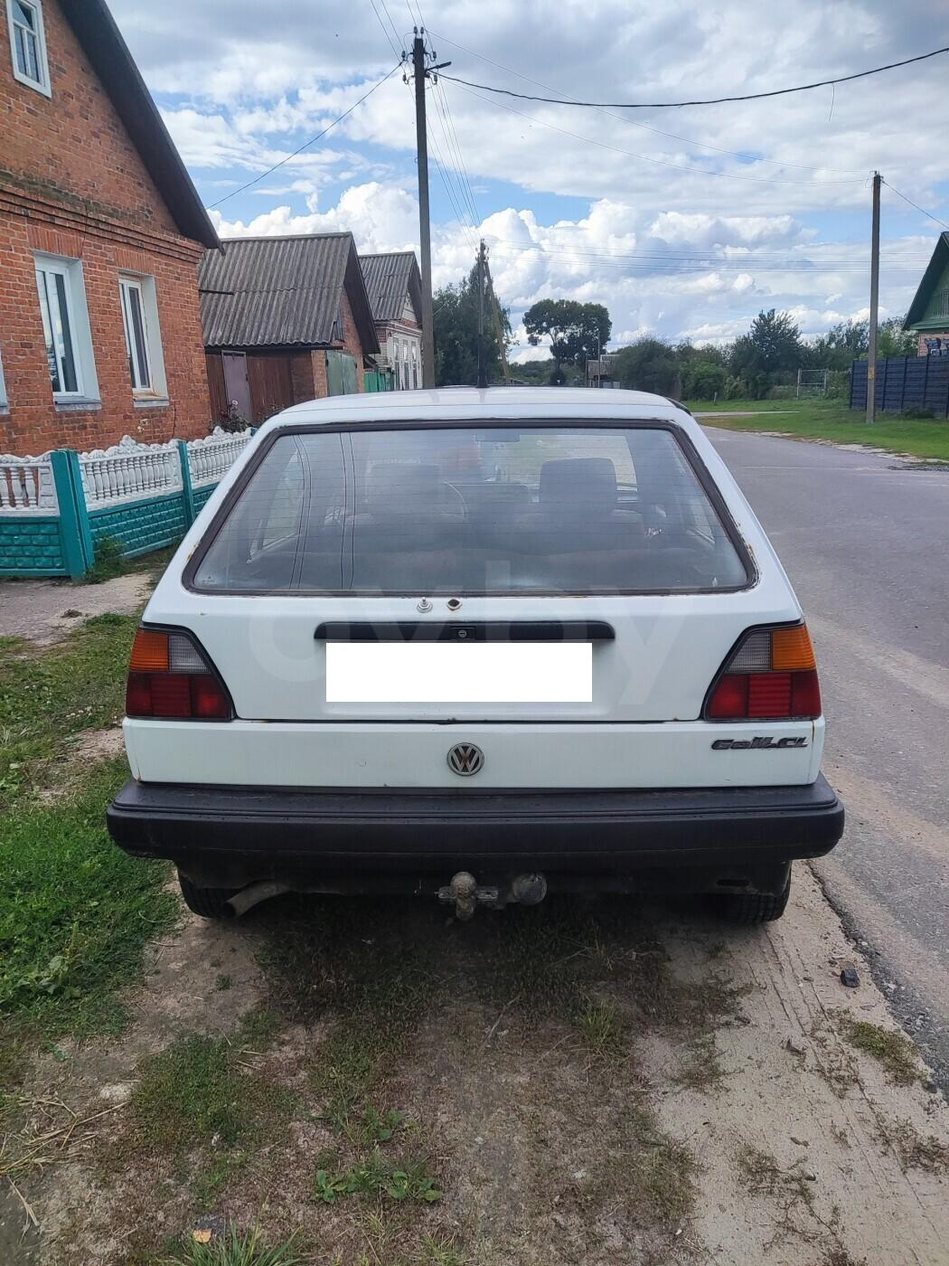Golf_1983-1992: (70, 369, 860, 953)
